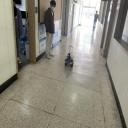cart: (64, 56, 74, 68)
